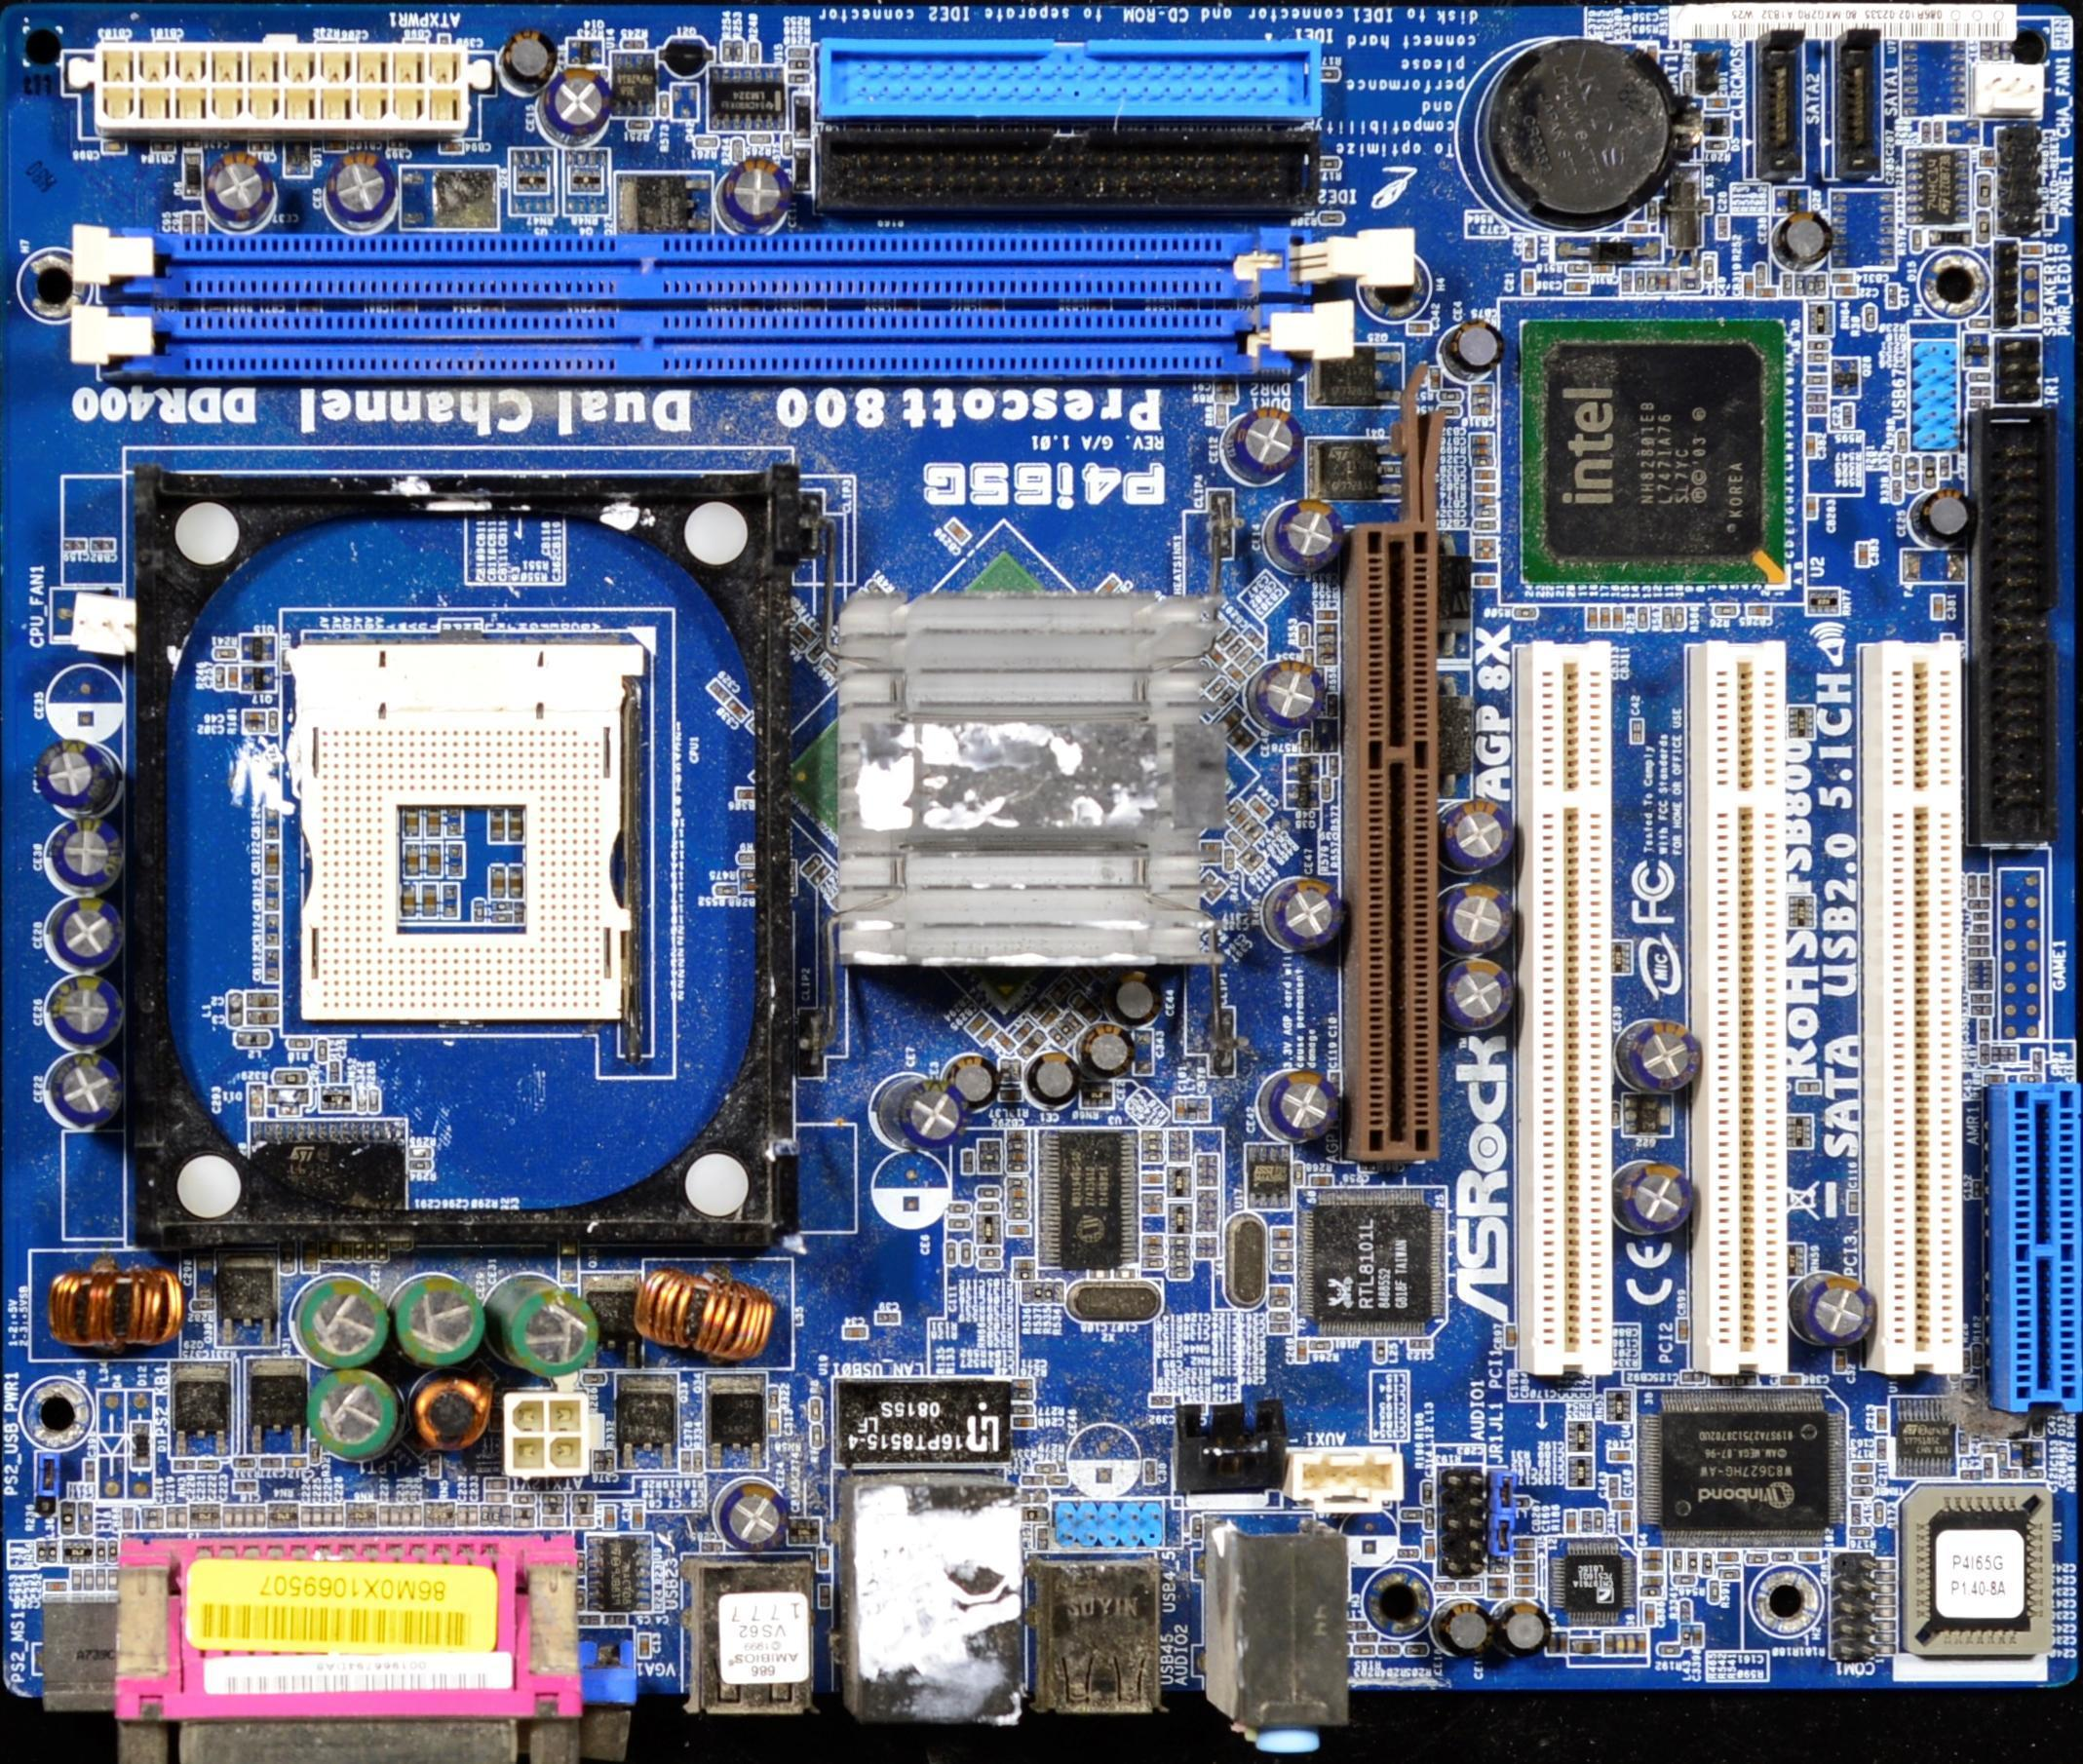Capacitor: (942, 516, 970, 546), (245, 992, 279, 1008), (727, 699, 750, 721), (250, 1085, 264, 1118), (245, 1010, 277, 1024), (710, 681, 729, 702), (1794, 1079, 1822, 1092), (1472, 538, 1498, 551), (1007, 1222, 1030, 1235), (233, 1479, 257, 1492), (1586, 604, 1600, 629), (62, 1503, 75, 1530), (1847, 1190, 1860, 1214), (1408, 1337, 1432, 1349), (259, 1456, 284, 1468), (457, 1503, 469, 1527), (603, 1506, 616, 1529), (1640, 1550, 1665, 1560), (1640, 1575, 1665, 1587), (1140, 1204, 1163, 1217), (1273, 1228, 1294, 1241), (485, 1479, 507, 1491), (402, 1505, 412, 1527), (633, 1505, 643, 1527), (1474, 481, 1496, 494), (1612, 606, 1624, 629), (1705, 97, 1729, 109), (843, 1326, 866, 1338), (1505, 1323, 1517, 1347), (1678, 1371, 1703, 1382), (769, 1411, 780, 1436), (100, 141, 125, 152), (468, 1504, 479, 1527), (411, 1504, 421, 1527), (235, 1505, 245, 1529), (1565, 1513, 1577, 1533), (1640, 1560, 1665, 1571), (106, 1570, 119, 1591), (1644, 1602, 1655, 1625), (1615, 1634, 1628, 1655), (639, 1633, 649, 1658), (2022, 244, 2043, 255), (1524, 270, 1533, 293), (1566, 281, 1588, 291), (1408, 323, 1431, 334), (1601, 604, 1611, 629), (1140, 1172, 1164, 1183), (1113, 1269, 1137, 1279), (1012, 1379, 1034, 1389), (310, 1506, 321, 1528), (389, 1506, 400, 1527), (321, 1507, 331, 1529), (300, 1506, 311, 1528), (176, 1507, 188, 1529), (1796, 1551, 1819, 1561), (818, 1549, 829, 1571), (1605, 1633, 1616, 1656), (1637, 1634, 1647, 1657), (1832, 273, 1854, 283), (1806, 495, 1817, 518), (1858, 543, 1869, 565), (1748, 606, 1770, 616), (228, 666, 238, 688), (331, 1508, 343, 1528), (1311, 1176, 1332, 1186), (285, 1458, 306, 1468), (174, 1460, 195, 1470), (441, 142, 462, 153), (1612, 1499, 1634, 1510), (166, 1508, 176, 1530), (1582, 1511, 1593, 1532), (1717, 1551, 1738, 1560), (96, 1570, 106, 1591), (45, 1581, 67, 1591), (1693, 1627, 1703, 1646), (1835, 286, 1858, 295), (1755, 288, 1777, 297), (1472, 406, 1492, 416), (255, 1506, 265, 1529), (1008, 1189, 1028, 1199), (1270, 1287, 1291, 1298), (1621, 1513, 1631, 1532), (1476, 470, 1495, 479), (1475, 509, 1494, 519), (737, 788, 755, 800), (1088, 1271, 1110, 1280), (1297, 1340, 1306, 1362), (1608, 1451, 1631, 1460), (198, 1462, 221, 1470), (1852, 1463, 1874, 1473), (486, 1494, 509, 1503), (380, 1506, 389, 1527), (224, 1506, 233, 1527), (246, 1507, 254, 1530), (1592, 264, 1613, 274), (1806, 435, 1815, 457), (1475, 497, 1498, 506), (1474, 549, 1497, 558), (1934, 596, 1944, 619), (318, 1041, 328, 1062), (1176, 1098, 1185, 1121), (1271, 1241, 1292, 1249), (1272, 1251, 1293, 1260), (1877, 1409, 1886, 1430), (72, 1568, 81, 1590), (85, 1569, 93, 1591), (1626, 1633, 1636, 1653), (1744, 276, 1753, 297), (1475, 575, 1496, 585), (1316, 611, 1337, 620), (1142, 1237, 1163, 1246), (1013, 1417, 1033, 1427), (245, 711, 264, 721), (1318, 625, 1335, 633), (1478, 521, 1495, 529)
Connector: (80, 224, 1311, 373), (1524, 641, 1615, 1377), (1705, 642, 1785, 1372), (1882, 639, 1959, 1379), (2005, 1083, 2083, 1414)
IC: (1521, 316, 1787, 586), (1637, 1388, 1847, 1547), (1549, 1538, 1639, 1629)
Resistor: (275, 1070, 308, 1087), (1701, 1552, 1717, 1575), (977, 1246, 1002, 1259), (659, 94, 671, 119), (1005, 1161, 1031, 1172), (976, 1186, 1002, 1199), (1770, 1551, 1796, 1562), (1672, 1551, 1685, 1573), (1142, 1130, 1163, 1144), (978, 1152, 1003, 1164), (976, 1200, 1000, 1213), (961, 1242, 973, 1266), (1850, 1474, 1875, 1485), (1873, 1502, 1885, 1525), (1744, 1552, 1768, 1564), (1673, 1574, 1698, 1586), (1967, 371, 1991, 384), (721, 39, 733, 63), (1514, 607, 1538, 619), (1806, 391, 1827, 403), (356, 1089, 367, 1112), (1168, 1236, 1191, 1247), (192, 1301, 214, 1312), (1320, 779, 1331, 801), (1682, 70, 1692, 96), (368, 1088, 378, 1113), (947, 1218, 971, 1229), (1169, 1248, 1191, 1260), (1033, 1282, 1043, 1305), (1309, 1339, 1331, 1351), (2022, 1469, 2046, 1479), (732, 140, 744, 161), (1849, 1526, 1872, 1536), (1689, 1550, 1700, 1573), (1707, 1580, 1717, 1604), (1641, 1587, 1663, 1600), (1320, 157, 1340, 170), (1806, 374, 1828, 387), (1471, 457, 1494, 467), (1298, 624, 1310, 648), (268, 710, 278, 736), (1300, 731, 1312, 753), (289, 1038, 312, 1048), (1293, 1163, 1303, 1184), (947, 1203, 970, 1213), (945, 1243, 955, 1266), (1167, 1268, 1191, 1280), (1022, 1282, 1033, 1304), (769, 1387, 779, 1409), (811, 1398, 821, 1421), (695, 137, 717, 148), (1705, 140, 1727, 150), (232, 1458, 256, 1469), (1865, 306, 1875, 328), (621, 39, 644, 49), (733, 40, 745, 62), (1714, 605, 1737, 616), (1674, 606, 1683, 629), (1663, 607, 1673, 630), (214, 647, 238, 658), (789, 74, 811, 84), (714, 885, 737, 897), (1007, 1139, 1028, 1150), (1140, 1152, 1163, 1163), (1007, 1209, 1028, 1220), (630, 121, 651, 131), (1036, 1464, 1057, 1474), (1659, 1645, 1680, 1655), (1911, 231, 1922, 252), (1441, 391, 1462, 401), (1897, 432, 1908, 453), (408, 1161, 433, 1170), (1893, 479, 1902, 502), (1008, 1199, 1028, 1209), (1270, 1298, 1290, 1309), (694, 1452, 704, 1473), (1047, 1476, 1066, 1485), (1321, 213, 1341, 223), (749, 43, 759, 63), (215, 669, 225, 688), (409, 1147, 432, 1158), (1169, 1259, 1192, 1268), (1043, 1282, 1053, 1304), (812, 1426, 822, 1448), (1567, 264, 1589, 273), (788, 47, 811, 56), (788, 60, 810, 70), (1142, 1142, 1164, 1152), (1007, 1178, 1027, 1187), (750, 134, 771, 143), (1808, 341, 1830, 351), (1806, 353, 1828, 362), (1806, 404, 1828, 413), (1440, 406, 1460, 415), (1639, 607, 1647, 629), (1142, 1246, 1163, 1255), (1014, 1391, 1033, 1400), (1014, 1405, 1033, 1413), (1595, 1512, 1603, 1531), (1892, 454, 1902, 473), (1321, 69, 1339, 79), (1142, 1259, 1165, 1267), (1273, 1263, 1293, 1271)
Transistor: (169, 1360, 234, 1455), (702, 1375, 767, 1470), (245, 1358, 307, 1455), (614, 1373, 676, 1468), (241, 635, 277, 661), (242, 665, 276, 691)
